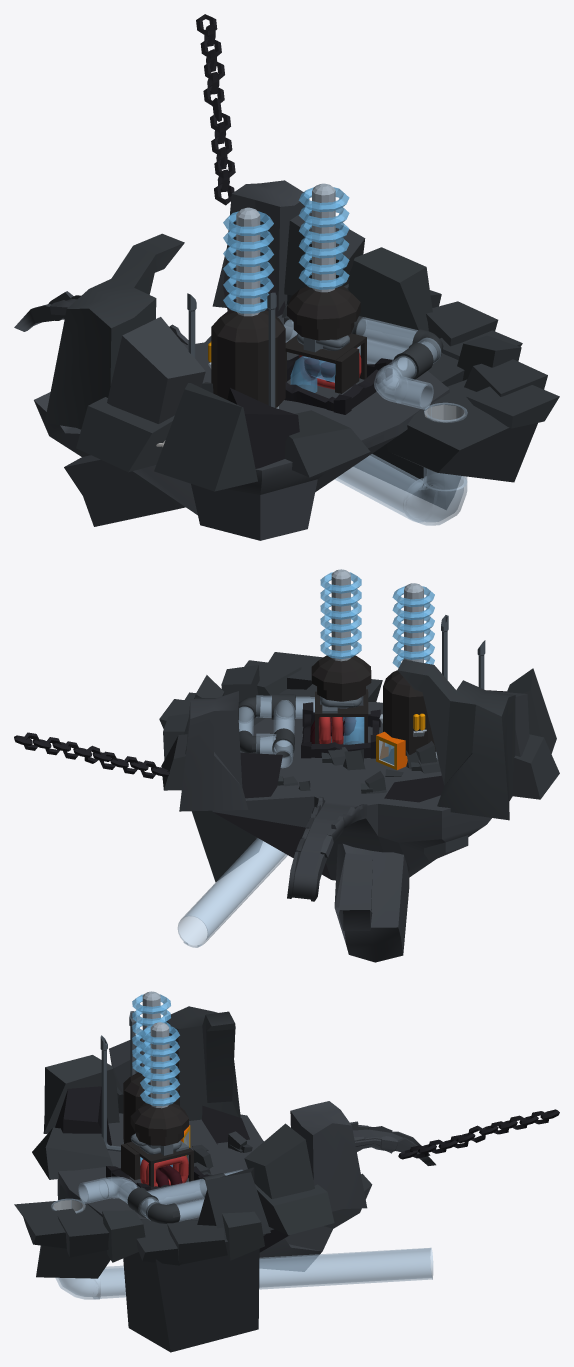
The model's file is teslamachine.fbx.
3 views of the same model, one above another, from view 1: azimuth 30°, elevation 25°; view 2: azimuth 150°, elevation 25°; view 3: azimuth 270°, elevation 25° (orthographic). The views are drawn at different scales.
Parts seen in each view (by area): view 1: teslamachine, buis_puzzel, ketting; view 2: teslamachine, buis_puzzel, ketting; view 3: teslamachine, buis_puzzel, ketting.
Boxes of the visible parts, x1,y1,x2,y2 form: teslamachine: (14,180,559,540); buis_puzzel: (284,316,443,409); ketting: (196,14,235,205); teslamachine: (159,569,559,962); buis_puzzel: (238,694,314,768); ketting: (14,732,169,778); teslamachine: (14,991,435,1352); buis_puzzel: (78,1169,242,1223); ketting: (398,1109,559,1159).
Size of the model in its own units: 30.68 by 24.95 by 42.57.
